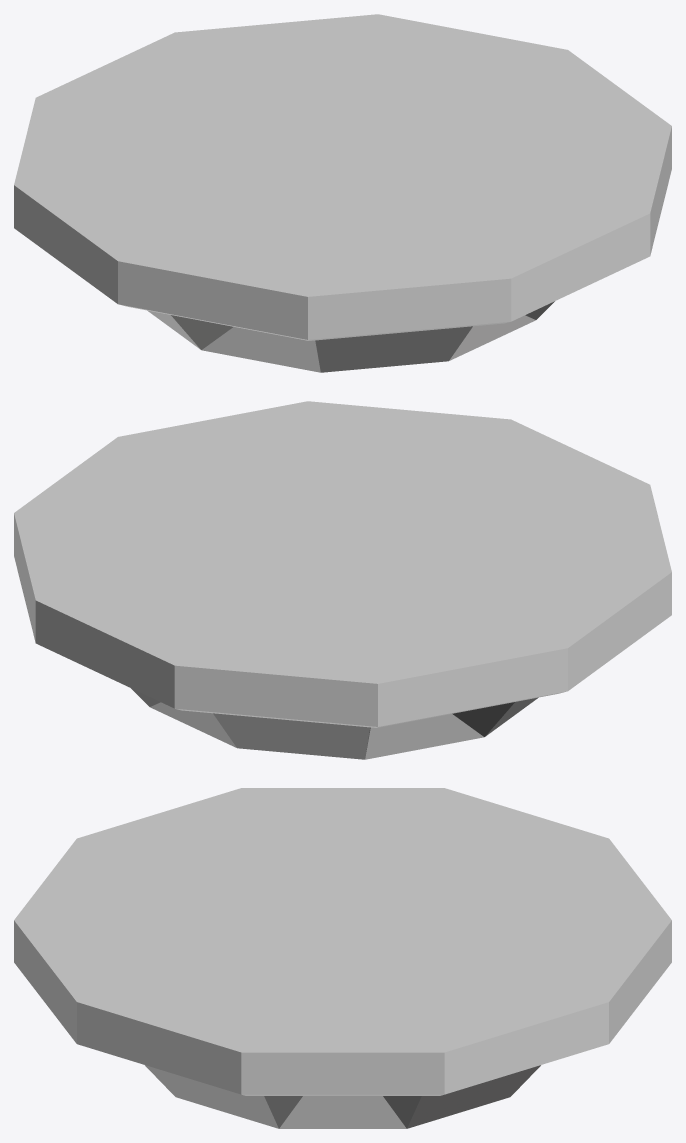
Rendered from SmokeDetector.fbx.
3 views of the same model, one above another, from view 1: azimuth 30°, elevation 25°; view 2: azimuth 150°, elevation 25°; view 3: azimuth 270°, elevation 25° (orthographic). The views are drawn at different scales.
Visible parts, largest first — view 1: SmokeDetector; view 2: SmokeDetector; view 3: SmokeDetector.
Part boxes in pixels (left/top/right/bottom): SmokeDetector: left=14, top=14, right=671, bottom=372; SmokeDetector: left=14, top=401, right=671, bottom=759; SmokeDetector: left=14, top=788, right=671, bottom=1128.
Bounding box in the file's own units: 20.56 × 5.6 × 21.62.
